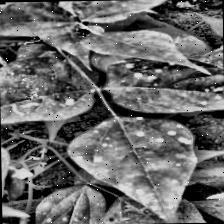Bean Rust: (70, 112, 198, 218), (0, 55, 91, 128), (113, 53, 224, 111), (98, 188, 224, 224), (33, 183, 108, 224), (70, 0, 201, 20), (196, 27, 224, 86)
